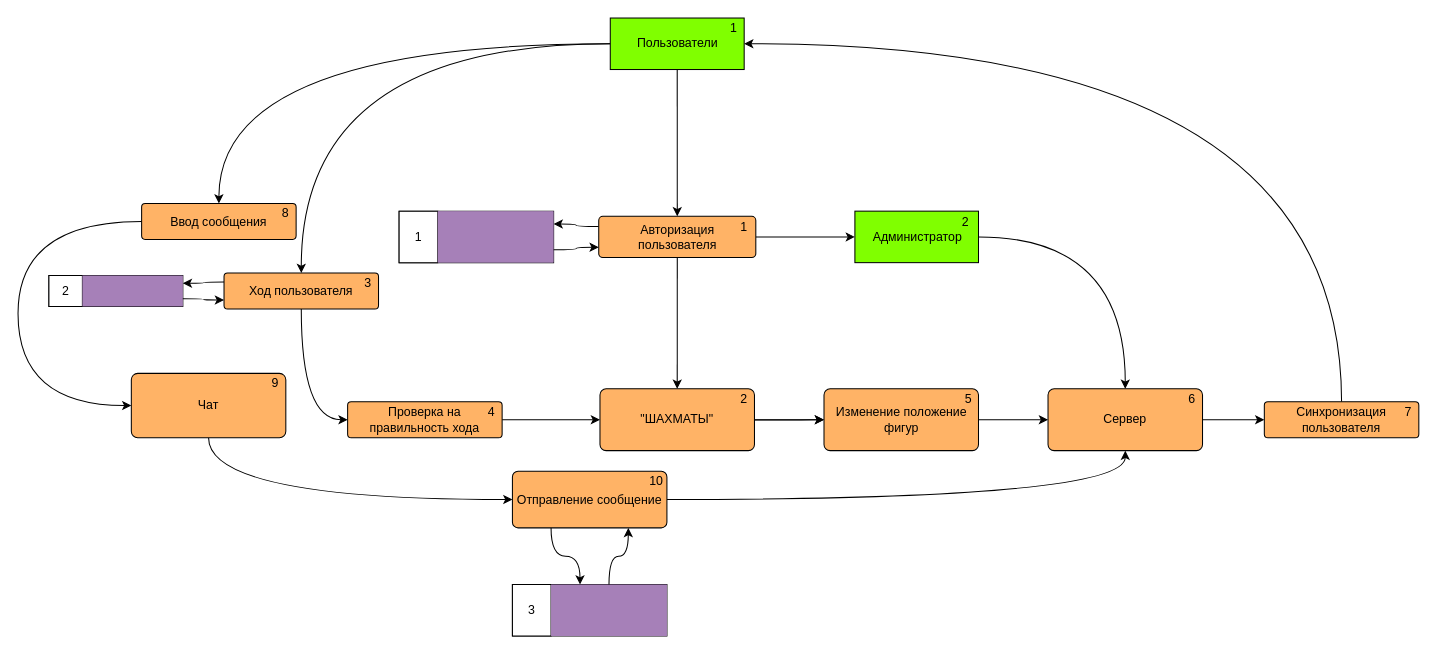
Some shapes in this 1437 by 654 pixel diagram are drawn without their labels. The shapes that lost their labels are listed below. From the top down, each one's centre as x and y in pixels, then its label:
the point at 495,236: ip и порт пользователя
the point at 132,290: Положение фигур
the point at 608,610: Данные сообщения
